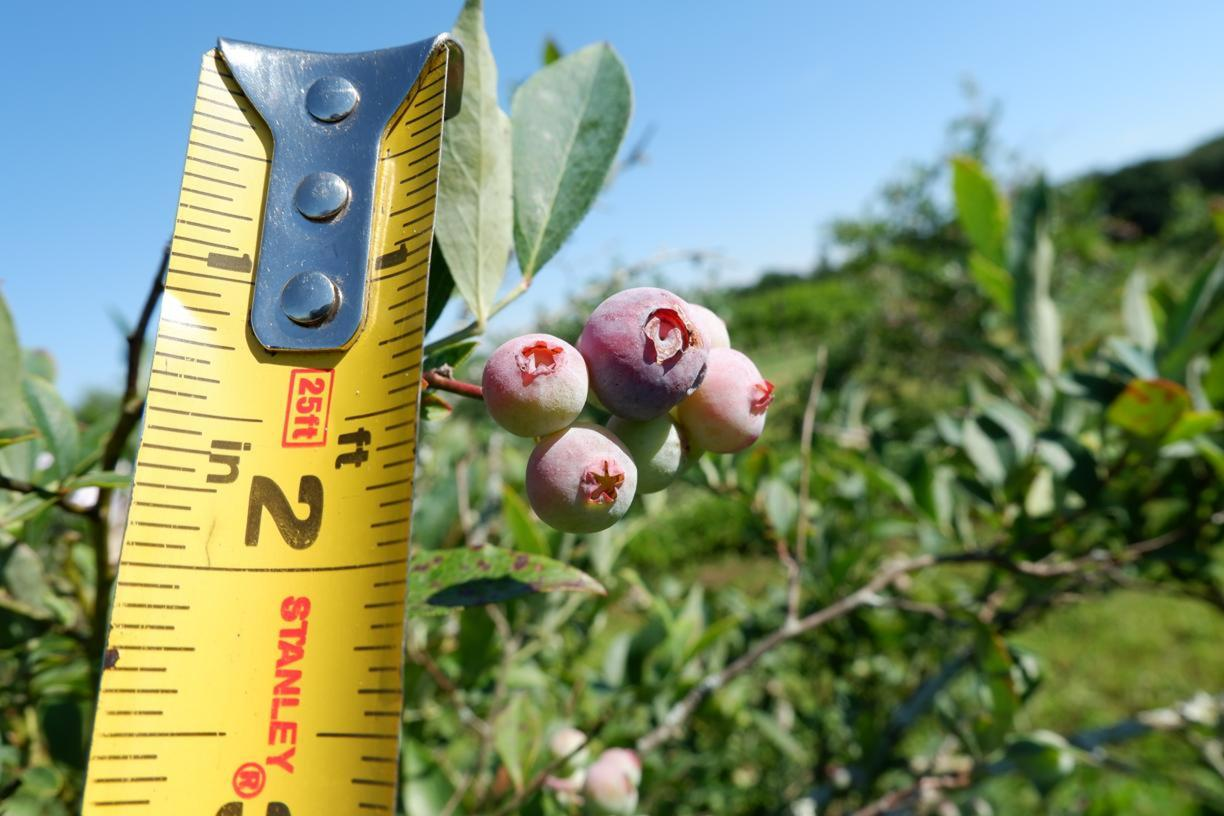Immature: (525, 420, 638, 534), (482, 334, 589, 438), (677, 348, 776, 452), (604, 413, 689, 493), (688, 304, 730, 349)
Mature: (573, 287, 708, 423)
